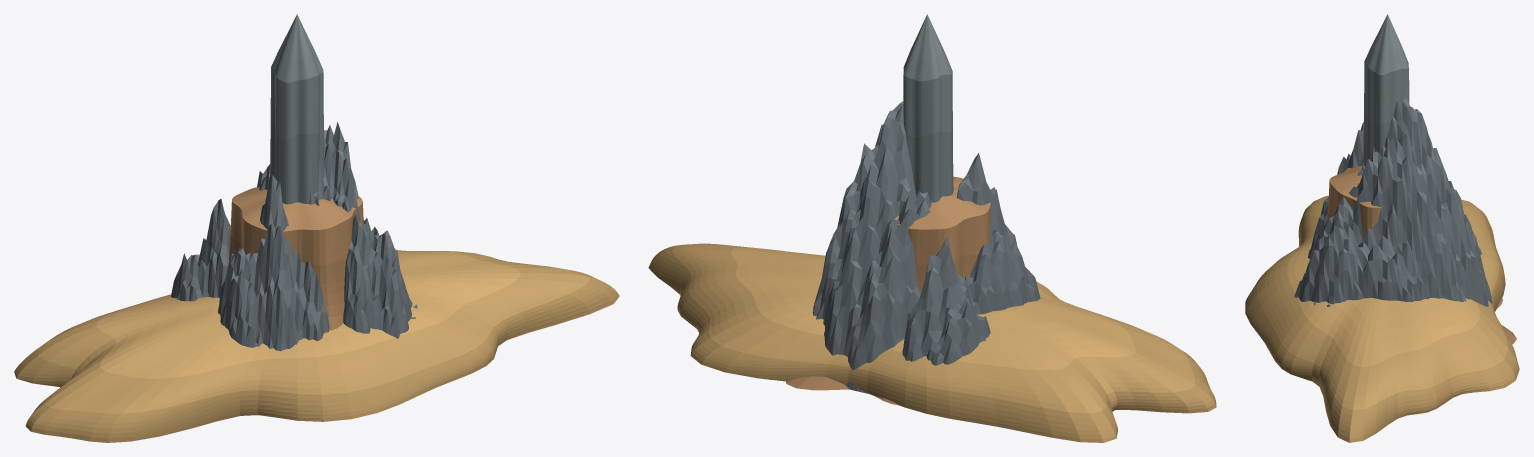
The model's file is Catalog-36.glb.
The picture shows the model from 3 angles, left to right: view 1: azimuth 30°, elevation 25°; view 2: azimuth 150°, elevation 25°; view 3: azimuth 270°, elevation 25°; orthographic projection. The views are drawn at different scales.
Visible parts, largest first — view 1: Wind Dune 1, Wind Dune 2, Wind Dune 0, Highland Peak 1, Highland Peak 0, Sandstone Mesa 2, Ancient Rock Spire 2, Ancient Rock Spire 1, Highland Peak 2, Sandstone Mesa 1; view 2: Wind Dune 1, Wind Dune 0, Highland Peak 1, Wind Dune 2, Highland Peak 0, Ancient Rock Spire 2, Highland Peak 2, Sandstone Mesa 2, Ancient Rock Spire 1, Sandstone Mesa 0, Sandstone Mesa 1; view 3: Wind Dune 1, Highland Peak 1, Wind Dune 2, Wind Dune 0, Highland Peak 0, Highland Peak 2, Ancient Rock Spire 2, Sandstone Mesa 2, Ancient Rock Spire 1.
Boxes of the visible parts, bbox=[...] form: Wind Dune 1: bbox=[37, 250, 590, 413]; Wind Dune 2: bbox=[96, 250, 520, 378]; Wind Dune 0: bbox=[14, 273, 619, 442]; Highland Peak 1: bbox=[182, 164, 402, 326]; Highland Peak 0: bbox=[171, 253, 417, 351]; Sandstone Mesa 2: bbox=[230, 187, 363, 264]; Ancient Rock Spire 2: bbox=[270, 14, 323, 139]; Ancient Rock Spire 1: bbox=[270, 122, 324, 204]; Highland Peak 2: bbox=[265, 122, 352, 222]; Sandstone Mesa 1: bbox=[229, 234, 346, 328]; Wind Dune 1: bbox=[672, 243, 1195, 413]; Wind Dune 0: bbox=[648, 245, 1216, 442]; Highland Peak 1: bbox=[822, 177, 1026, 316]; Wind Dune 2: bbox=[731, 247, 1135, 370]; Highland Peak 0: bbox=[813, 239, 1040, 393]; Ancient Rock Spire 2: bbox=[903, 14, 952, 137]; Highland Peak 2: bbox=[854, 101, 986, 219]; Sandstone Mesa 2: bbox=[894, 176, 990, 265]; Ancient Rock Spire 1: bbox=[906, 129, 953, 202]; Sandstone Mesa 0: bbox=[786, 376, 898, 405]; Sandstone Mesa 1: bbox=[915, 254, 978, 293]; Wind Dune 1: bbox=[1257, 195, 1508, 410]; Highland Peak 1: bbox=[1309, 149, 1475, 291]; Wind Dune 2: bbox=[1287, 241, 1479, 367]; Wind Dune 0: bbox=[1245, 201, 1519, 442]; Highland Peak 0: bbox=[1294, 214, 1492, 306]; Highland Peak 2: bbox=[1353, 98, 1446, 201]; Ancient Rock Spire 2: bbox=[1364, 14, 1409, 124]; Sandstone Mesa 2: bbox=[1328, 165, 1382, 239]; Ancient Rock Spire 1: bbox=[1363, 111, 1391, 166].
Size of the model in its own units: 116 by 65 by 53.98.
